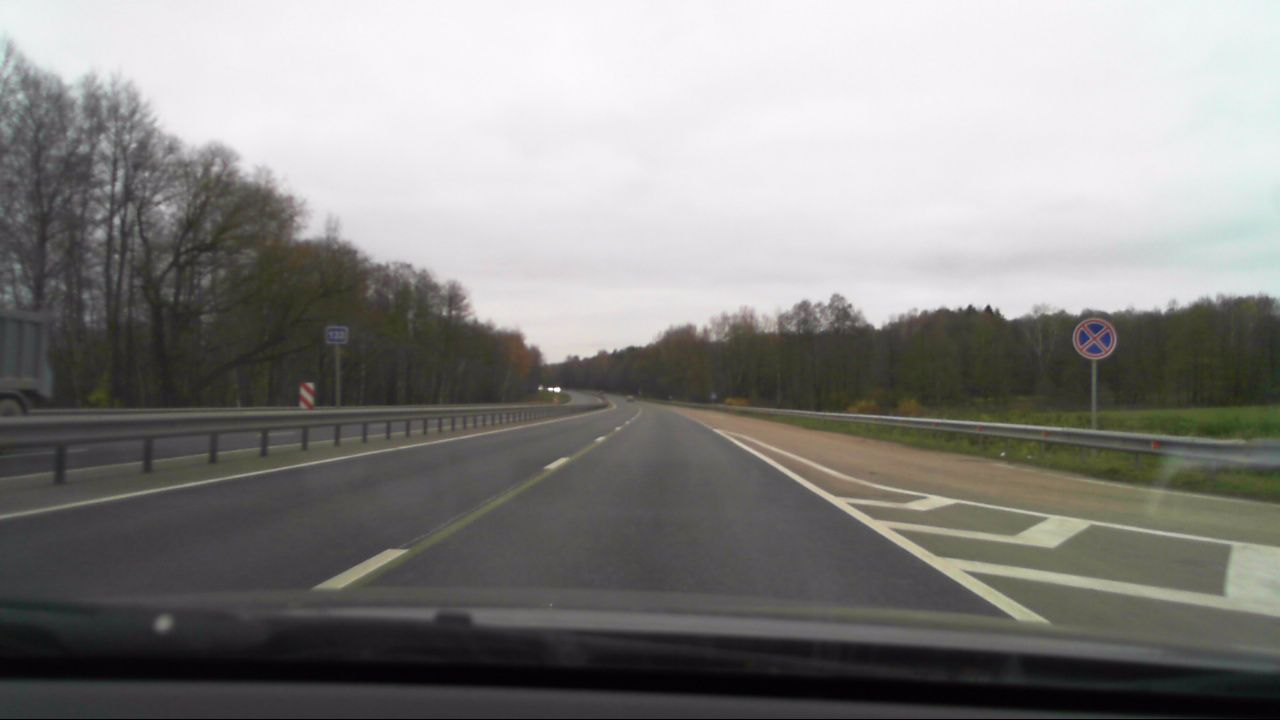No Parking: (1071, 316, 1120, 361)
